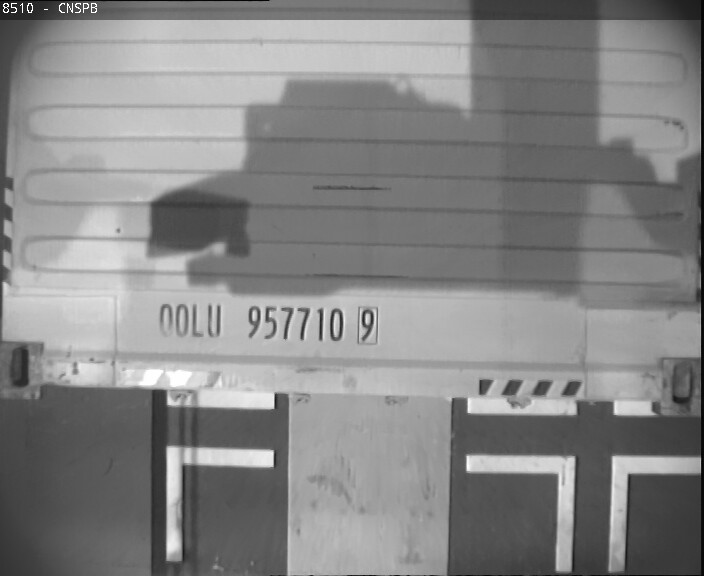groundmarker_1: (465, 452, 704, 576)
